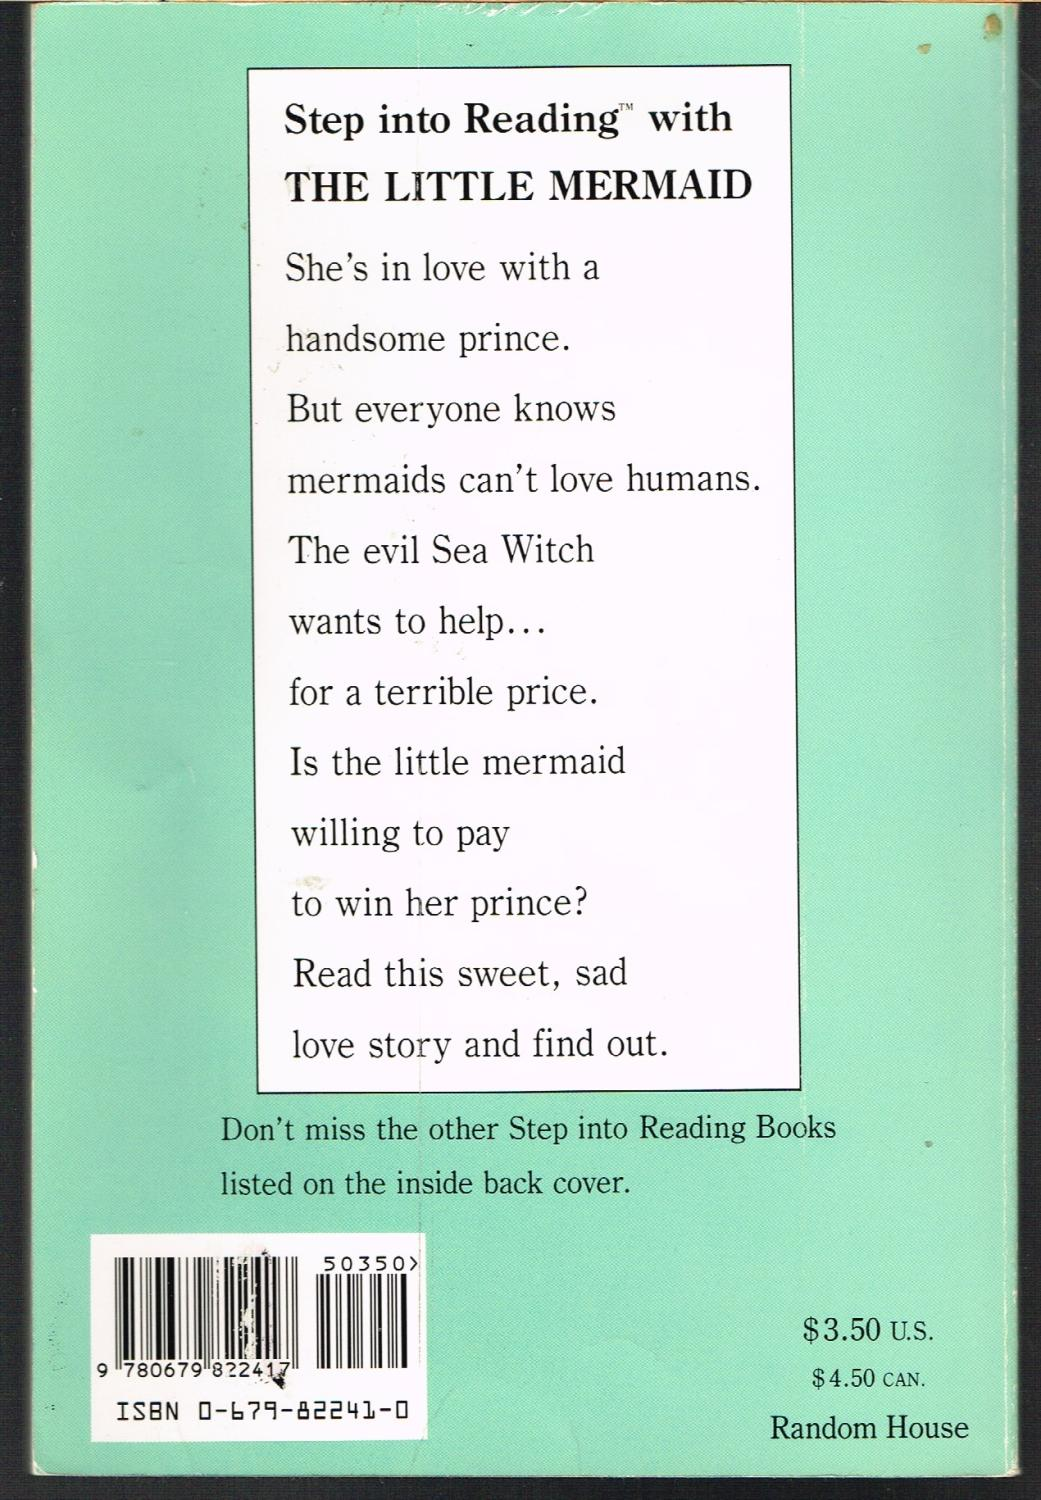barcode: (101, 1248, 421, 1395)
